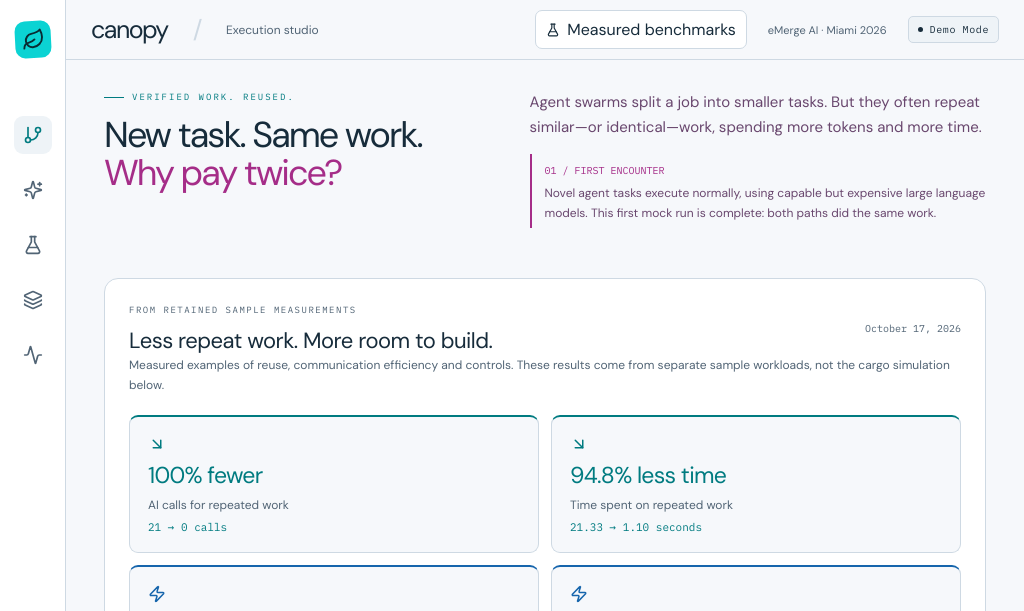
Test case: benchmarks integrated with the guided execution demo › loads only on entry and does not show a timed mock tour over measured results
Click the button named "Benchmarks workspace": (32, 245) x1=14 y1=226 x2=52 y2=264
Wait 5000 ms
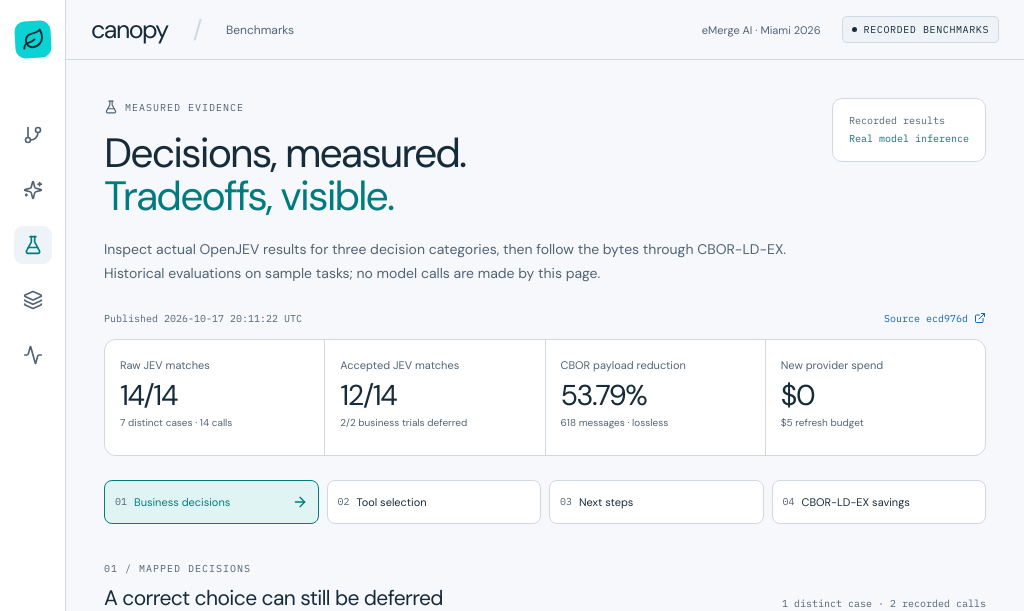
Expected: the text "14/14" is shown, x1=120 y1=377 x2=177 y2=414
Expected: the text "12/14" is shown, x1=340 y1=377 x2=396 y2=414
